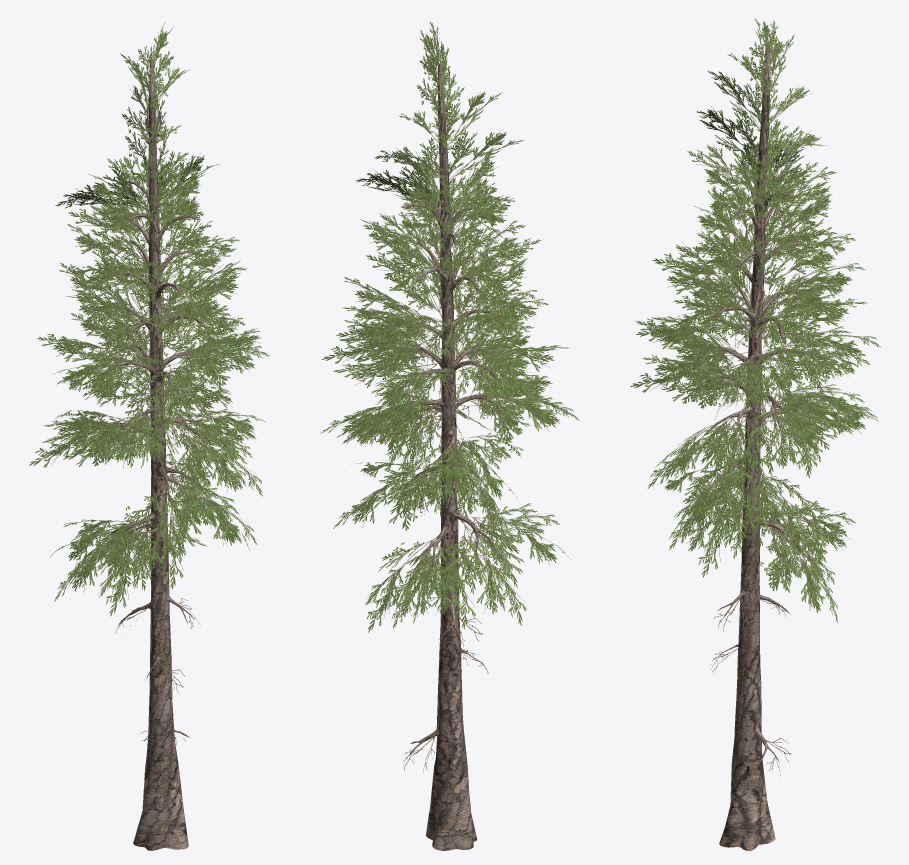
The model's file is epicea-1.glb.
The picture shows the model from 3 angles, left to right: view 1: azimuth 30°, elevation 25°; view 2: azimuth 150°, elevation 25°; view 3: azimuth 270°, elevation 25°; orthographic projection. The views are drawn at different scales.
Parts seen in each view (by area): view 1: spruce branch_1, bark08_0, branch06_2; view 2: spruce branch_1, bark08_0, branch06_2; view 3: spruce branch_1, bark08_0, branch06_2.
Part boxes in pixels (x1,y1,x2,y2): spruce branch_1: (29, 22, 269, 616); bark08_0: (101, 59, 212, 850); branch06_2: (95, 311, 214, 744); spruce branch_1: (320, 21, 579, 632); bark08_0: (389, 64, 504, 850); branch06_2: (397, 315, 516, 773); spruce branch_1: (630, 18, 880, 623); bark08_0: (702, 45, 815, 850); branch06_2: (703, 303, 809, 776).
Size of the model in its own units: 3.22 by 10.52 by 3.16.
Materials: 3 (3 with a texture image).
